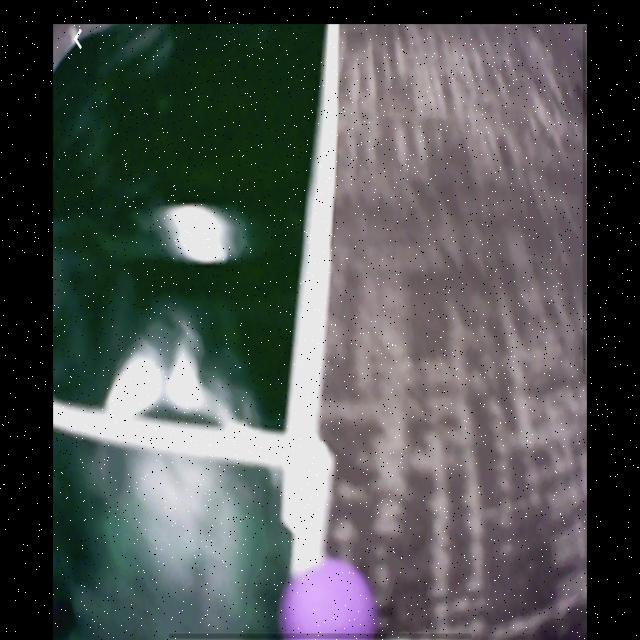ball: (278, 556, 378, 638)
